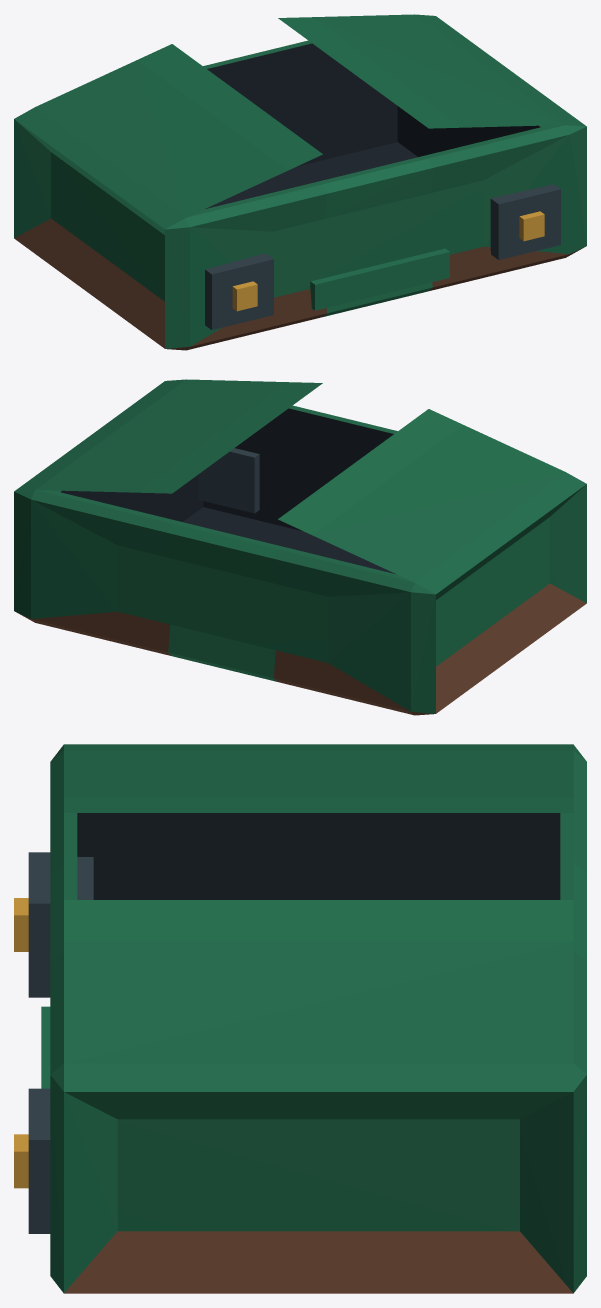
File: fish-crate-mint.glb
The picture shows the model from 3 angles, top to bottom: view 1: azimuth 30°, elevation 25°; view 2: azimuth 150°, elevation 25°; view 3: azimuth 270°, elevation 25°; orthographic projection. The views are drawn at different scales.
Parts seen in each view (by area): view 1: fish-crate-mint; view 2: fish-crate-mint; view 3: fish-crate-mint.
Boxes of the visible parts, x1,y1,x2,y2 form: fish-crate-mint: [14, 14, 586, 350]; fish-crate-mint: [14, 379, 586, 715]; fish-crate-mint: [14, 744, 586, 1293].
Size of the model in its own units: 0.95 by 0.35 by 0.6621.
